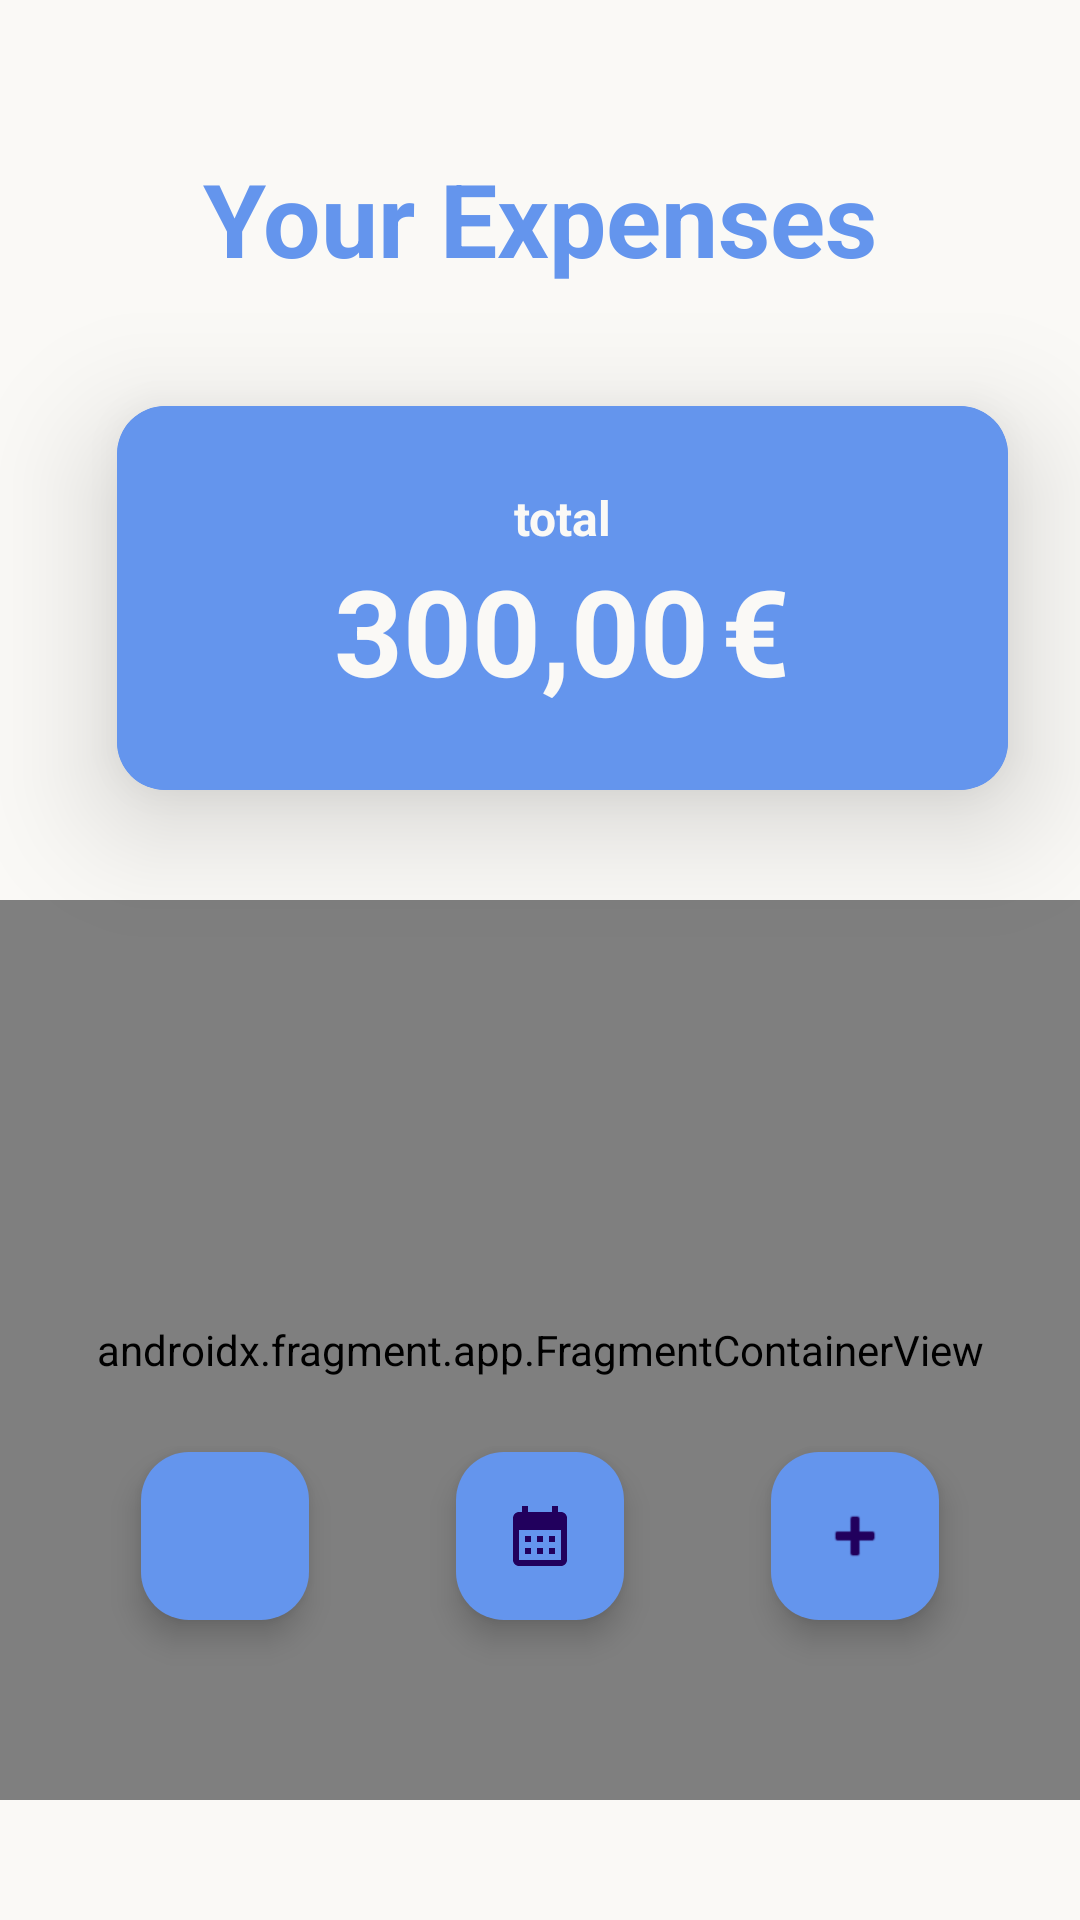

Locate icon controls on the screen. Image size 1080px×1920px, boxes as region(x1, y1, x2, y2).
add: region(771, 1452, 939, 1620)
calendar month: region(456, 1452, 624, 1620)
